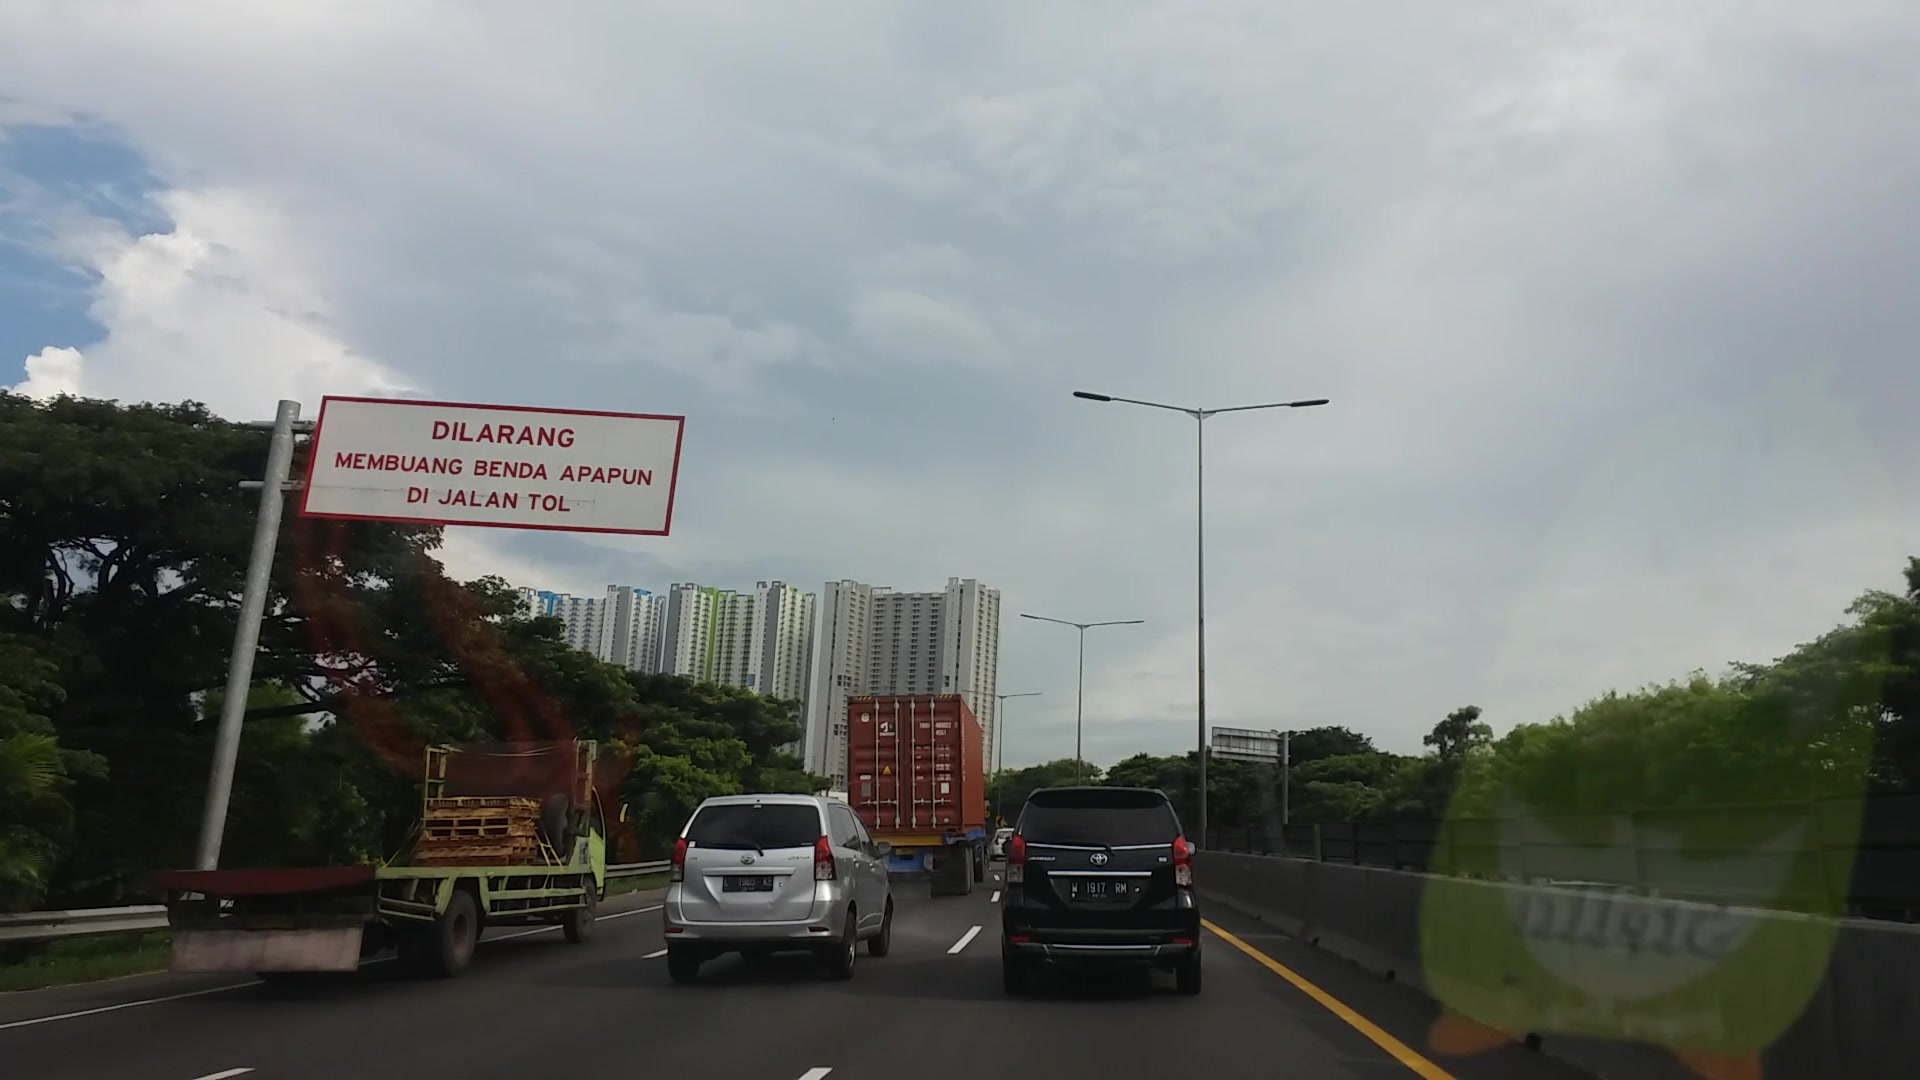plate_positive: (1069, 877, 1129, 901), (723, 876, 773, 891)
